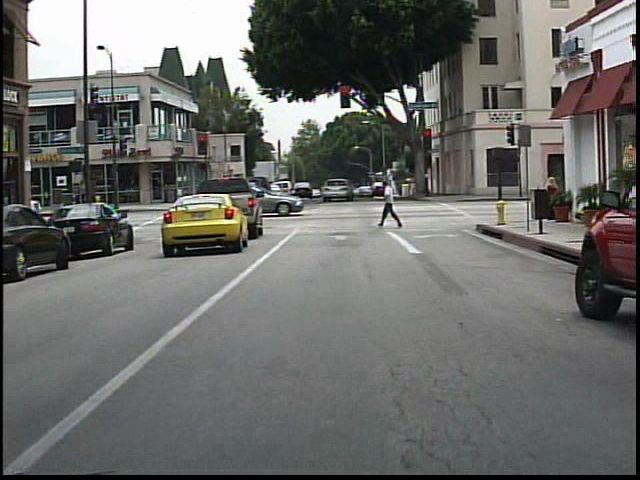person: (380, 179, 406, 231), (540, 174, 565, 225)
